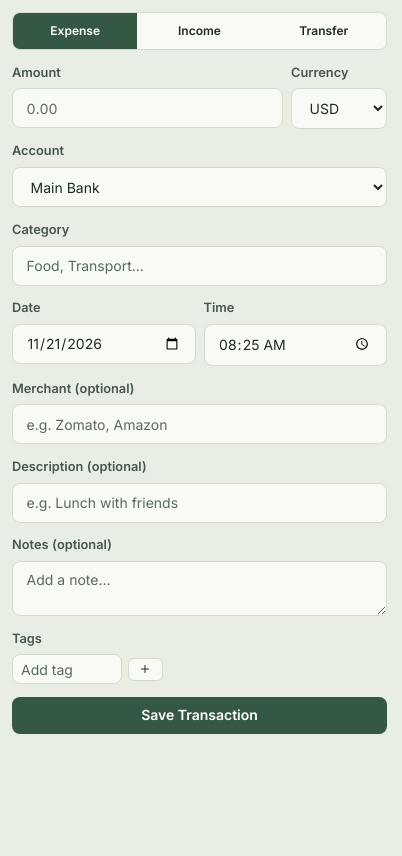
Scenario: TransactionForm › rejects an empty amount and a same-account transfer
Click the button "Save Transaction": {"x": 200, "y": 715} 12,697 -> 387,734
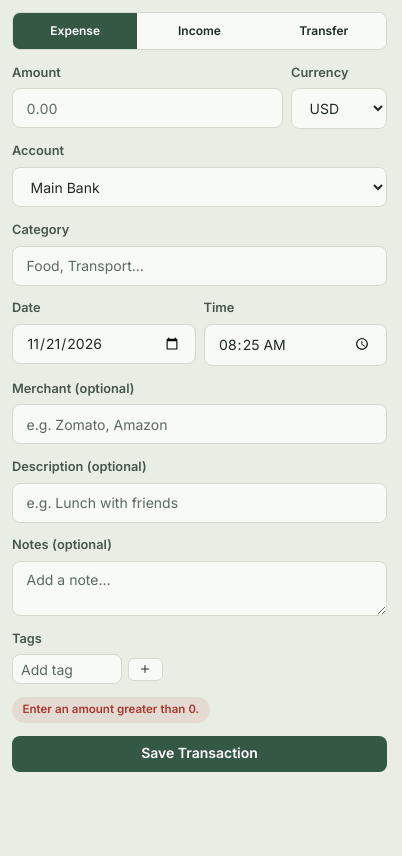
expect the message "Enter an amount greater than 0." is shown: met, box 12,697 -> 210,723
